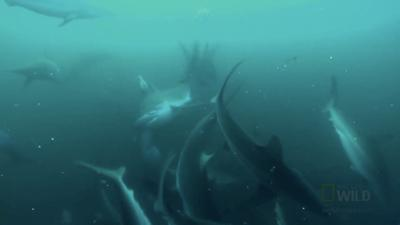Shark -Selachimorpha-: (199, 58, 341, 216), (124, 68, 217, 127)
